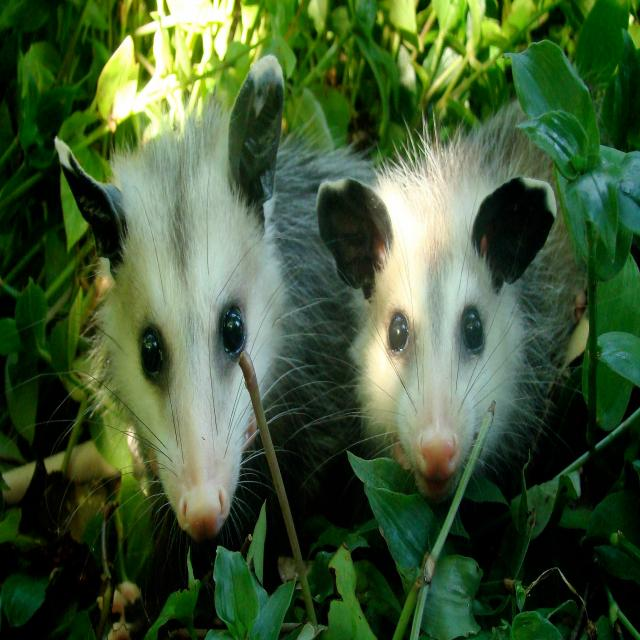possum: (56, 55, 375, 541), (318, 102, 585, 502)
